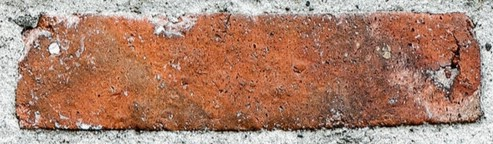redbrick: (1, 1, 481, 126)
